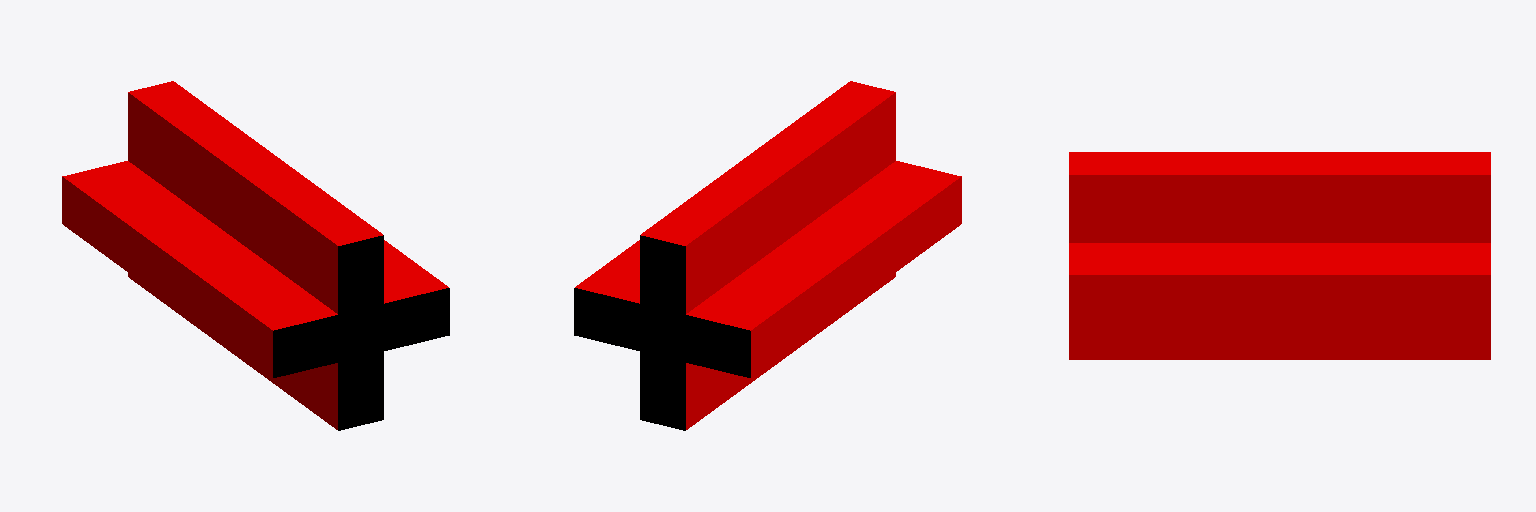
Rendered from Cross_cube_cap.obj.
3 views of the same model, side by side, from view 1: azimuth 30°, elevation 25°; view 2: azimuth 150°, elevation 25°; view 3: azimuth 270°, elevation 25° (orthographic).
Parts seen in each view (by area): view 1: Cube; view 2: Cube; view 3: Cube.
Part boxes in pixels (bbox=[...]): Cube: bbox=[62, 81, 449, 430]; Cube: bbox=[574, 81, 961, 430]; Cube: bbox=[1069, 152, 1490, 359].
Bounding box in the file's own units: 0.0485 × 0.0485 × 0.1001.